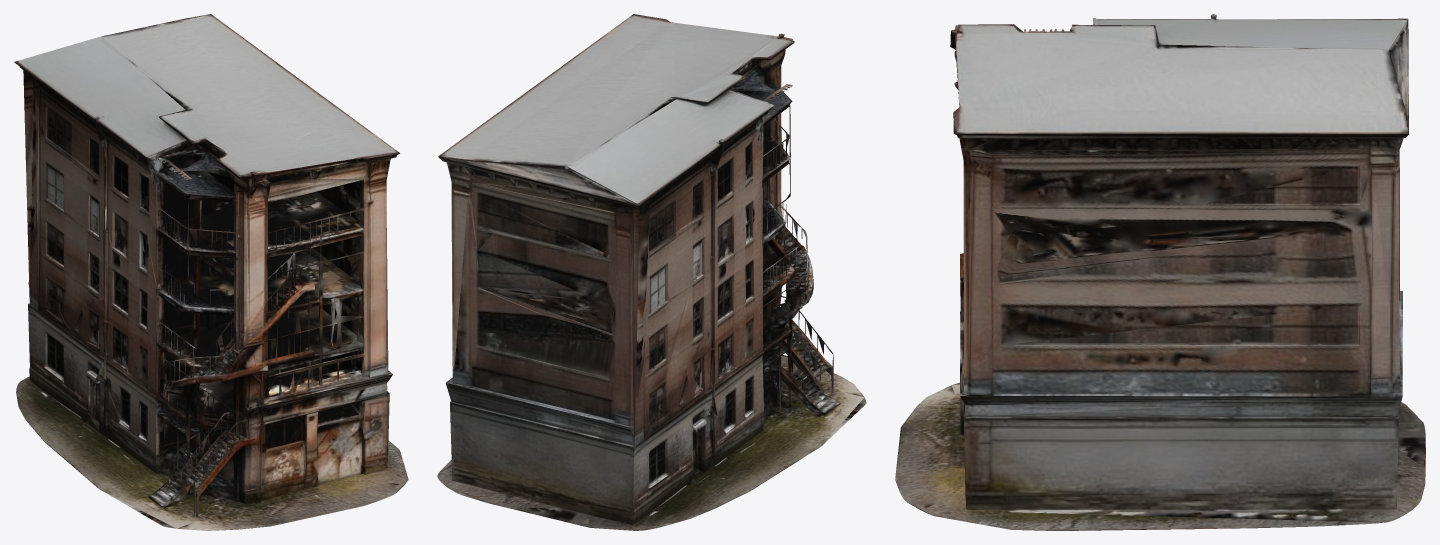
File: uhs2.glb
The picture shows the model from 3 angles, left to right: view 1: azimuth 30°, elevation 25°; view 2: azimuth 150°, elevation 25°; view 3: azimuth 270°, elevation 25°; orthographic projection. The views are drawn at different scales.
Visible parts, largest first — view 1: material; view 2: material; view 3: material.
Part boxes in pixels (x1=…): material: x1=14, y1=14, x2=408, y2=530; material: x1=437, y1=14, x2=866, y2=530; material: x1=895, y1=14, x2=1425, y2=530.
Bounding box in the file's own units: 0.6109 × 0.7317 × 0.8772.
Materials: 1 (1 with a texture image).
